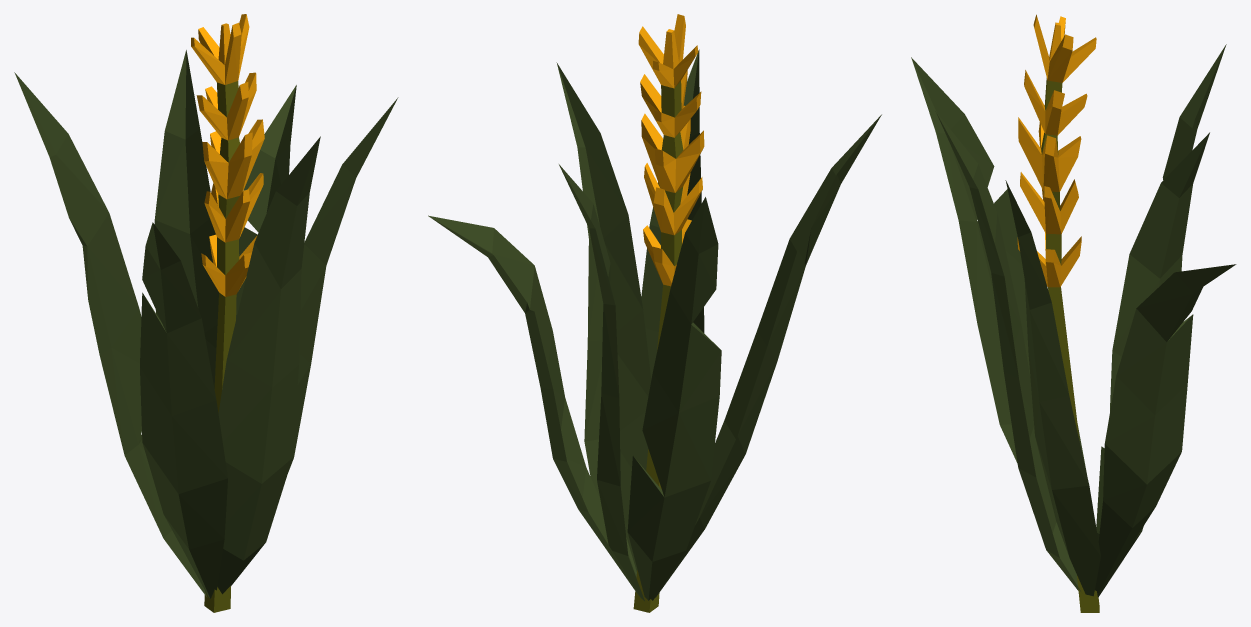
Rendered from Plant_7.fbx.
3 renders of one model, left to right at view 1: azimuth 30°, elevation 25°; view 2: azimuth 150°, elevation 25°; view 3: azimuth 270°, elevation 25°, orthographic. The views are drawn at different scales.
Parts seen in each view (by area): view 1: Plant_7; view 2: Plant_7; view 3: Plant_7.
Boxes of the visible parts, left/top/right/bottom form: Plant_7: left=14, top=14, right=398, bottom=612; Plant_7: left=428, top=14, right=881, bottom=612; Plant_7: left=911, top=14, right=1236, bottom=612.
Bounding box in the file's own units: 0.6706 × 1.25 × 0.6244.
